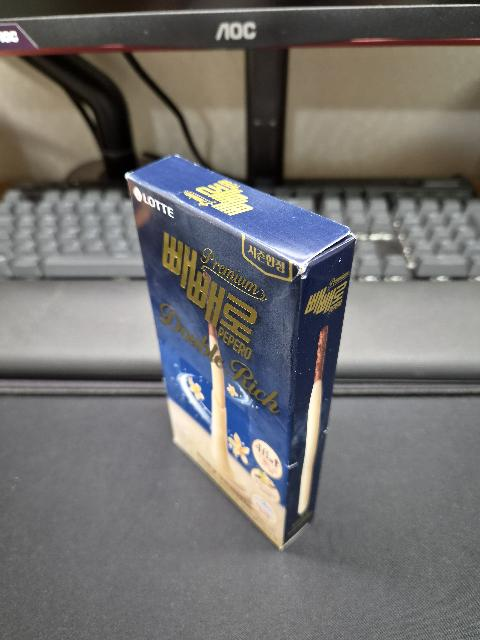pepero: (125, 154, 357, 551)
